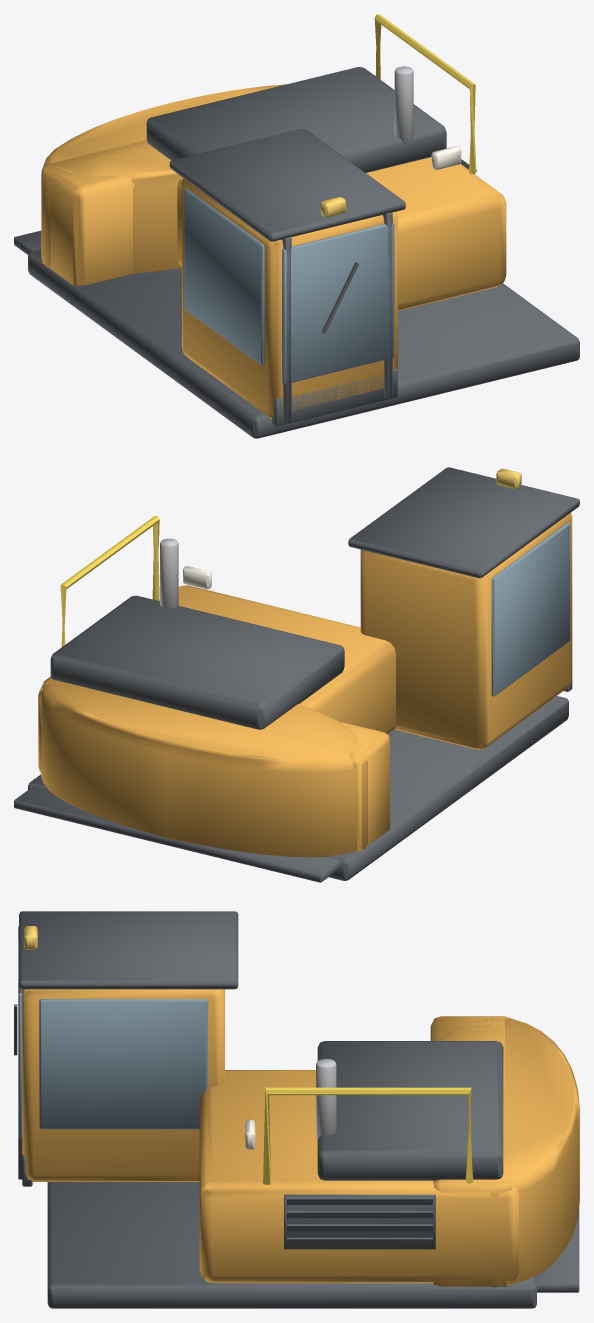
The model's file is exc_top.glb.
3 renders of one model, top to bottom at view 1: azimuth 30°, elevation 25°; view 2: azimuth 150°, elevation 25°; view 3: azimuth 270°, elevation 25°, orthographic. The views are drawn at different scales.
Visible parts, largest first — view 1: Body; view 2: Body; view 3: Body.
Boxes of the visible parts, x1,y1,x2,y2 form: Body: [14, 14, 579, 438]; Body: [14, 467, 579, 882]; Body: [14, 911, 579, 1308].
Bounding box in the file's own units: 2.45 × 1.76 × 3.35.
